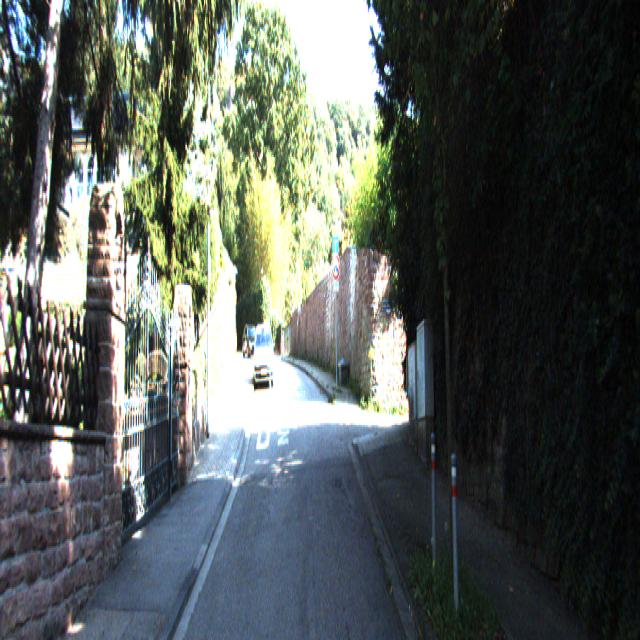Car: (254, 319, 274, 391), (242, 323, 260, 365)
